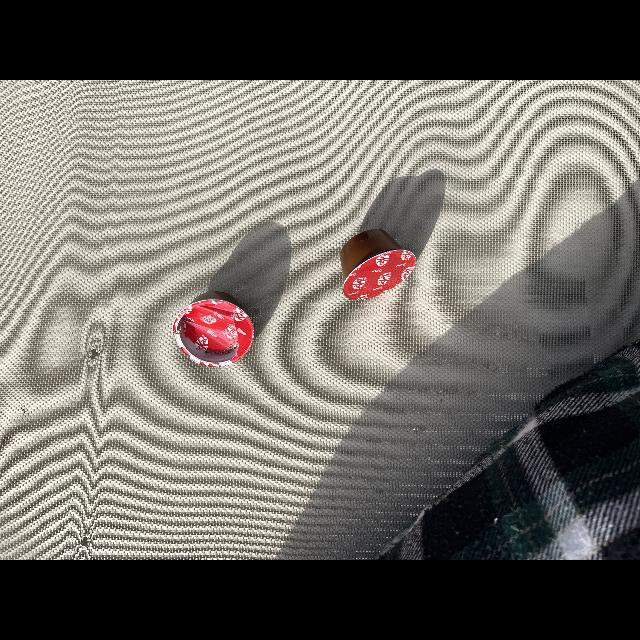damaged_capsule: (168, 288, 262, 372)
intact_capsule: (335, 224, 427, 306)
